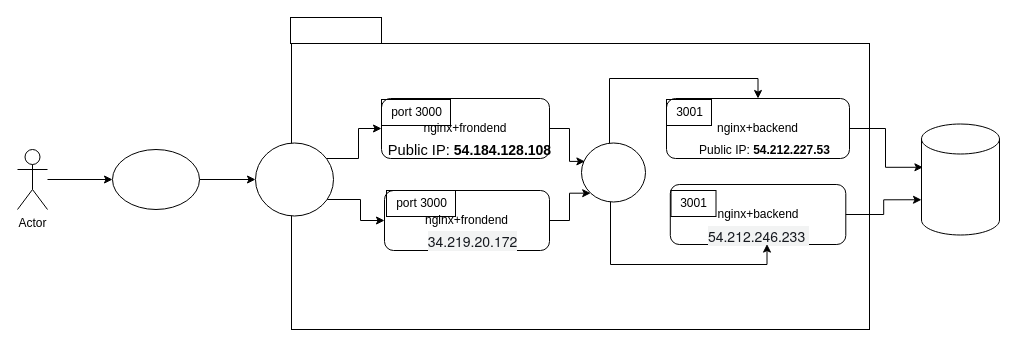
This 1017x347 diagram has some shape labels left out. The centre of each missing label's shape, as x and y in pixels:
"backend lb" goes at point (613, 172).
"CloudFlair" goes at point (156, 179).
"frontend Lb" goes at point (294, 179).
"MongoDB" goes at point (960, 179).
"Same Subnet" goes at point (336, 30).
